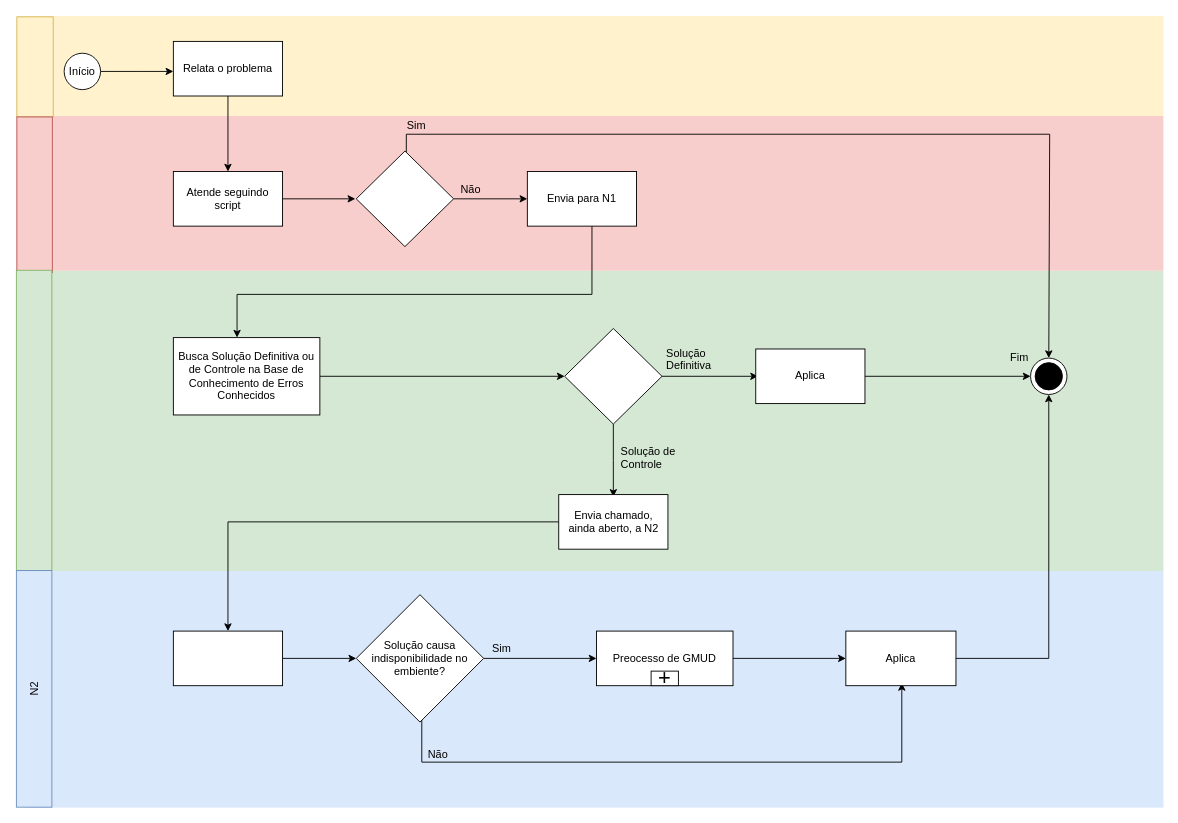
This 1178x823 diagram has some shape labels left out. Each missing label, with the box of its shape:
Analisa e busca a causa raíz: (172, 630, 283, 686)
BOT: (16, 116, 52, 273)
CLIENTE: (16, 16, 53, 117)
N1: (15, 269, 52, 571)
Resolveu problema?: (355, 150, 454, 247)
Solução Definitiva ou de Controle?: (564, 328, 662, 424)
